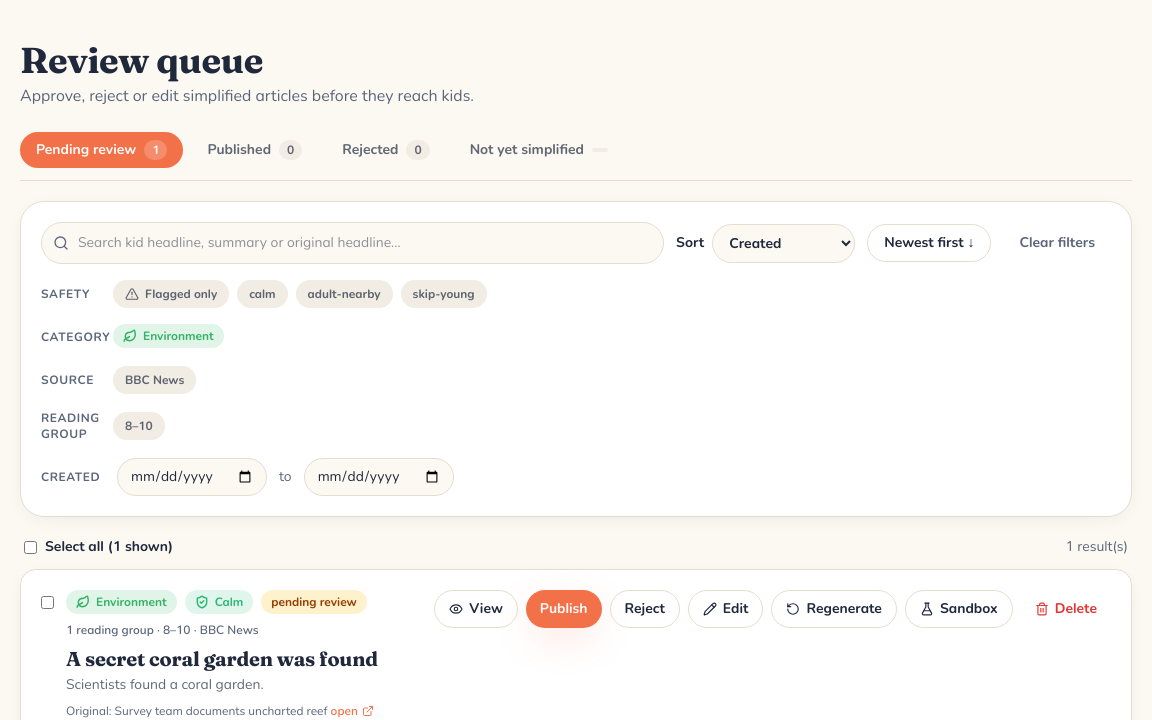
Scenario: reading a story before judging it › opens from the headline too
Click the button "A secret coral garden was found": (222, 658) x1=66 y1=646 x2=378 y2=671
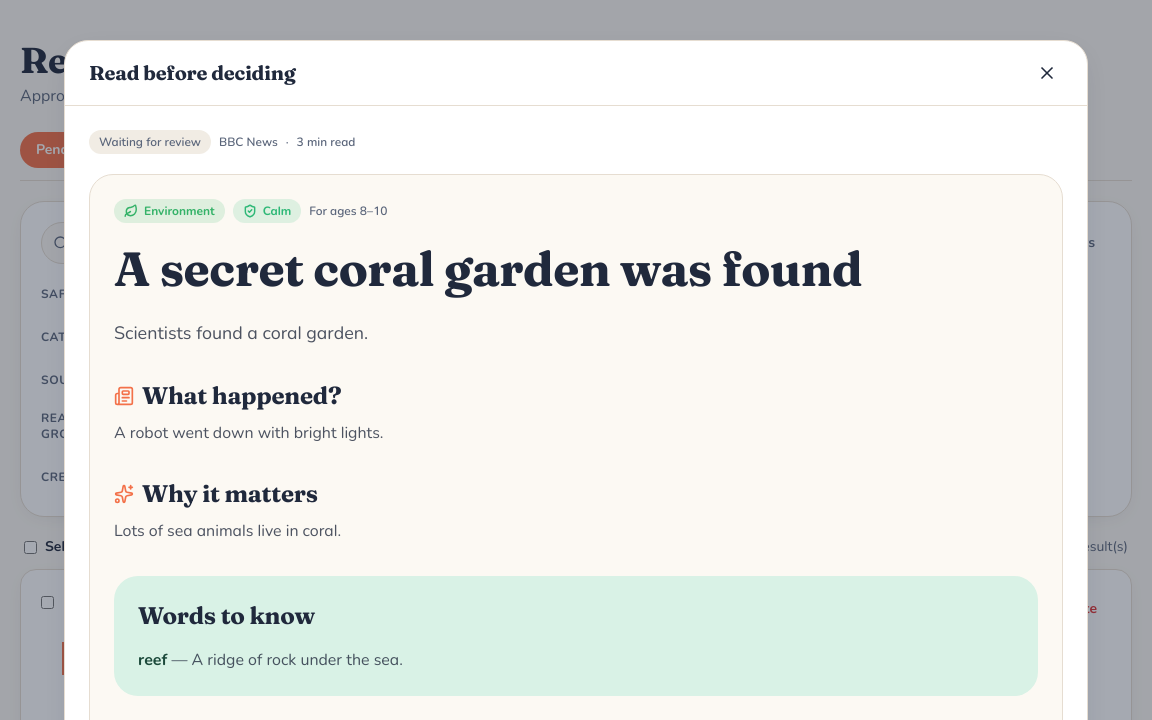
Now the dialog is shown
